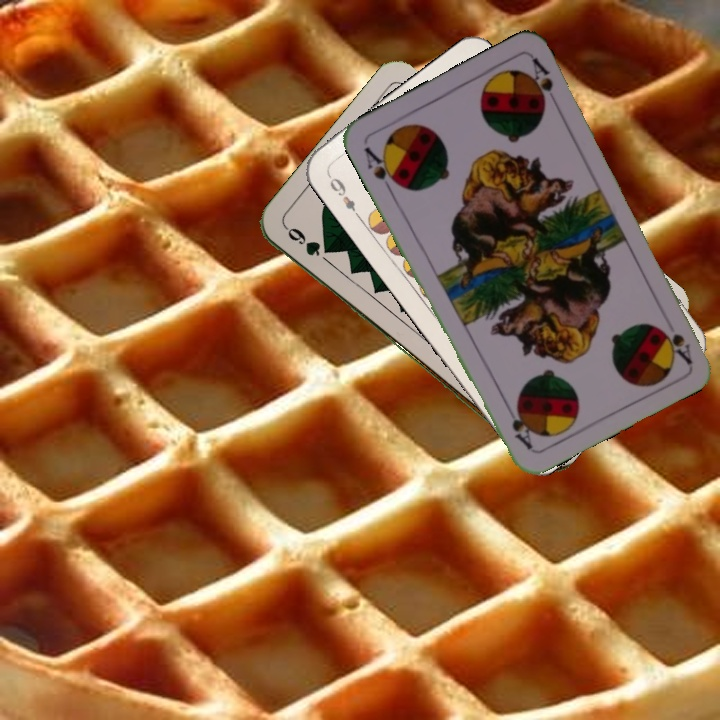E9: (323, 170, 364, 221)
G9: (280, 222, 323, 259)
SA: (360, 143, 403, 196), (659, 325, 694, 367)
